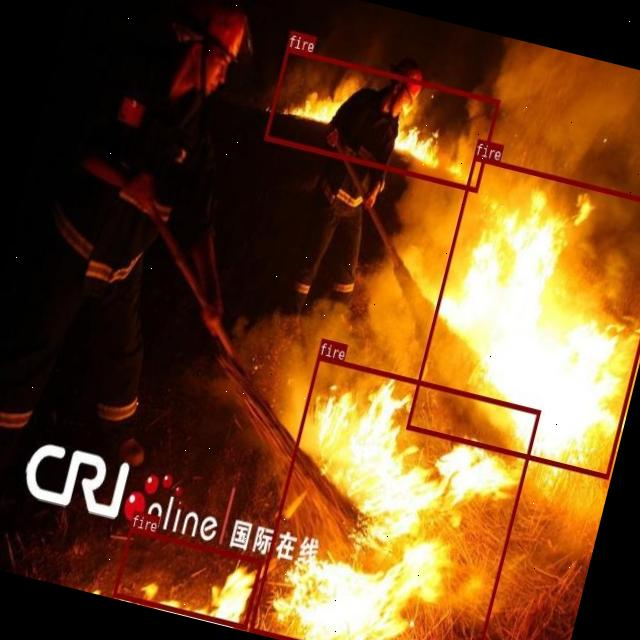fire: (249, 354, 540, 640), (405, 154, 640, 478), (264, 47, 500, 192), (112, 525, 262, 628)
